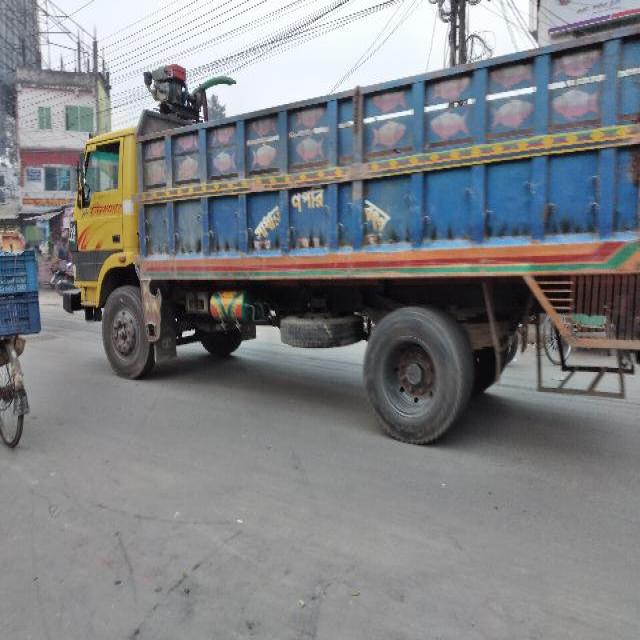bike: (1, 328, 29, 447), (49, 263, 79, 302)
vehicle: (66, 25, 640, 453)
